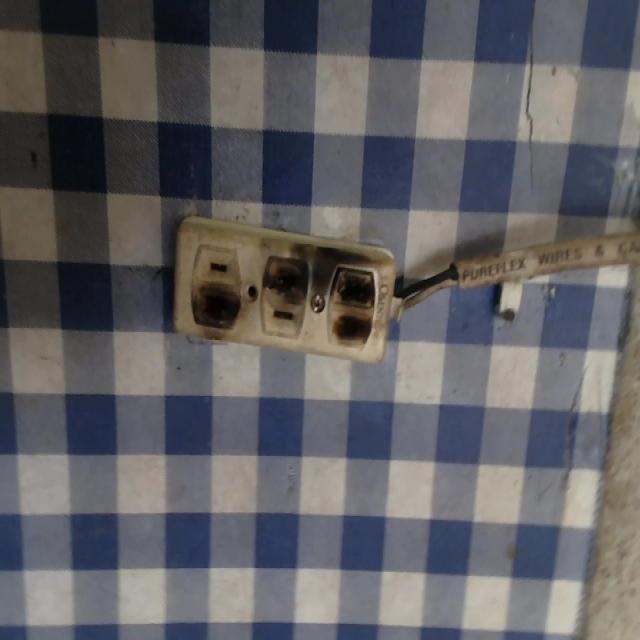-: (322, 258, 380, 350), (261, 235, 309, 305), (194, 278, 247, 334)
